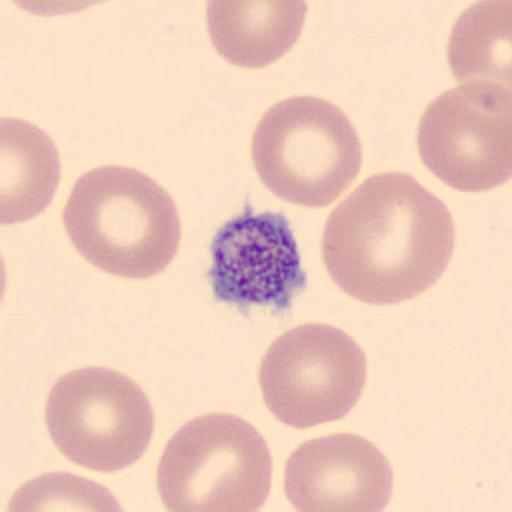Platelet: (204, 206, 312, 320)
RBC: (320, 169, 458, 309), (61, 162, 184, 282), (249, 92, 364, 210), (42, 362, 156, 476), (255, 320, 369, 432), (154, 411, 276, 511), (414, 78, 512, 194), (281, 430, 396, 512), (445, 0, 512, 110), (204, 1, 309, 70), (2, 116, 62, 226), (3, 468, 131, 512), (4, 0, 124, 18)
